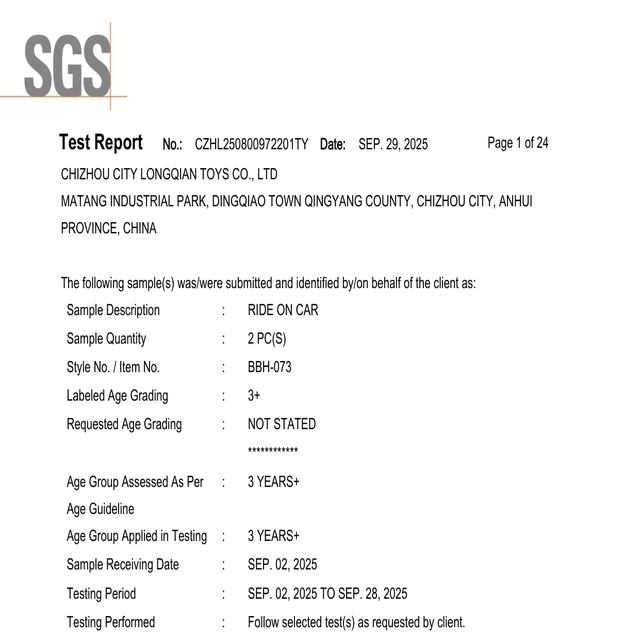sgs: (25, 33, 111, 98)
